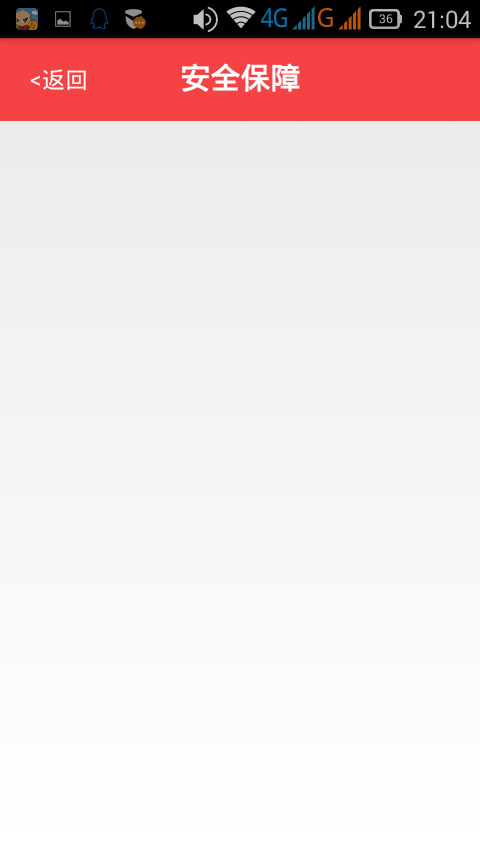button: (24, 63, 100, 97)
